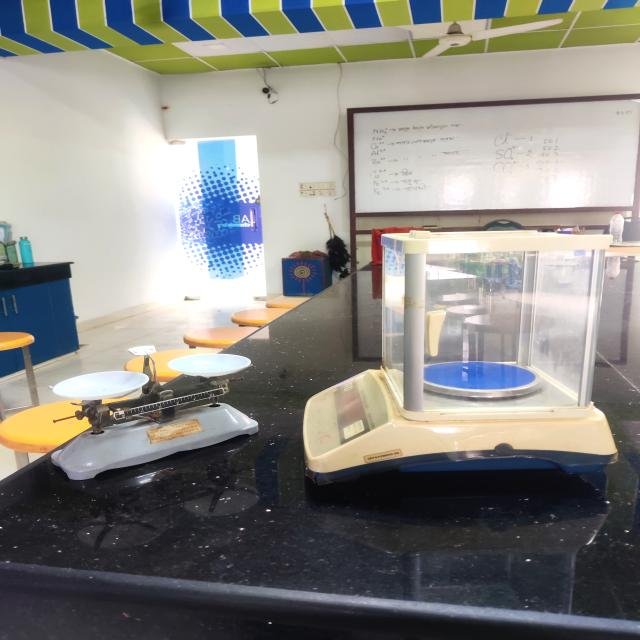Mechanical_Balance_Scale: (34, 328, 273, 506)
Precision_Weight_Scale: (292, 221, 640, 514)
